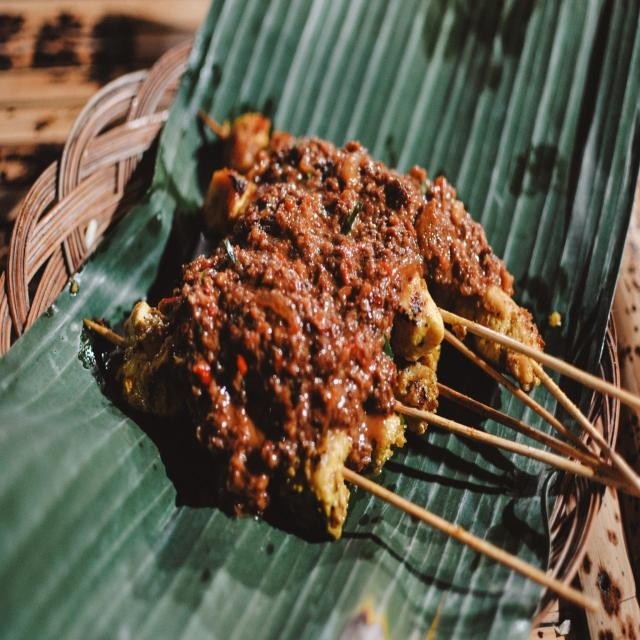Sate: (102, 72, 640, 632)
